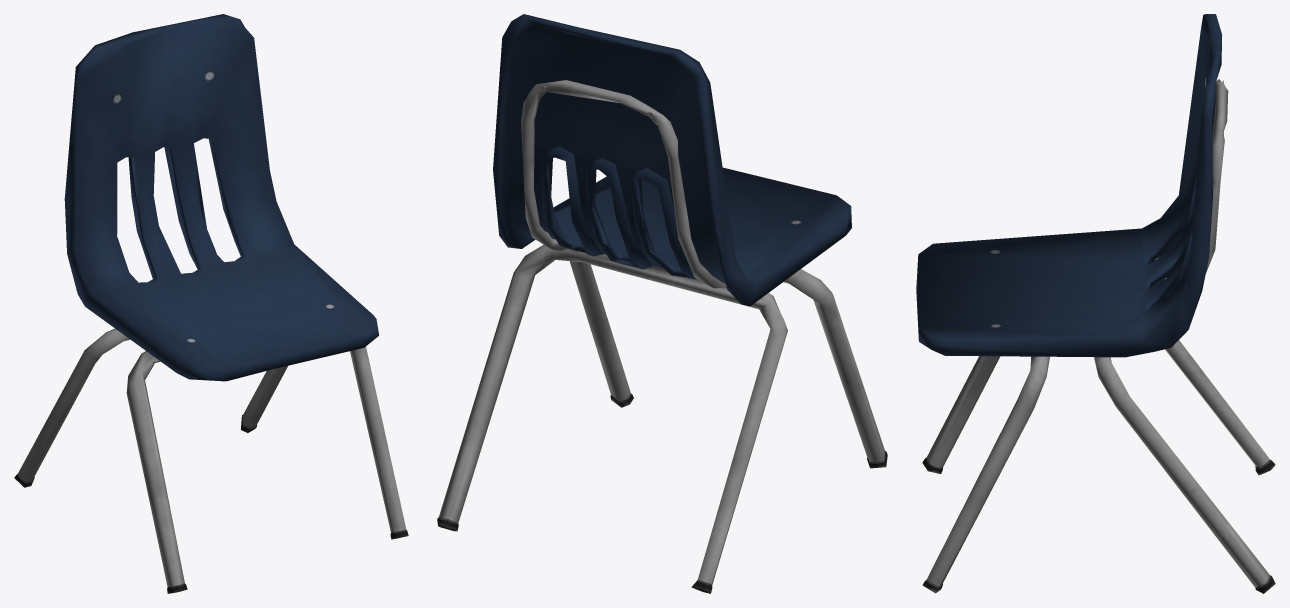
The model's file is SchoolChair_01.glb.
3 views of the same model, side by side, from view 1: azimuth 30°, elevation 25°; view 2: azimuth 150°, elevation 25°; view 3: azimuth 270°, elevation 25° (orthographic). The views are drawn at different scales.
Visible parts, largest first — view 1: SchoolChair_01; view 2: SchoolChair_01; view 3: SchoolChair_01.
Part boxes in pixels (x1=…): SchoolChair_01: x1=14, y1=14, x2=408, y2=593; SchoolChair_01: x1=437, y1=14, x2=887, y2=593; SchoolChair_01: x1=916, y1=14, x2=1275, y2=593.
Bounding box in the file's own units: 0.5658 × 1 × 0.673.
Materials: 1 (1 with a texture image).
